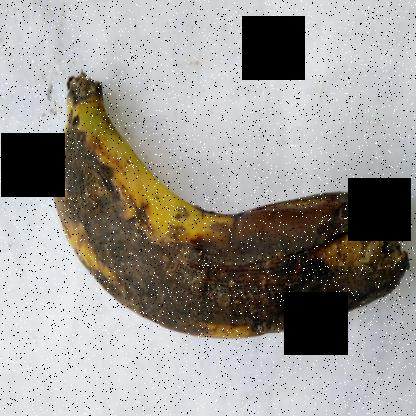rotten: (12, 80, 416, 348)
